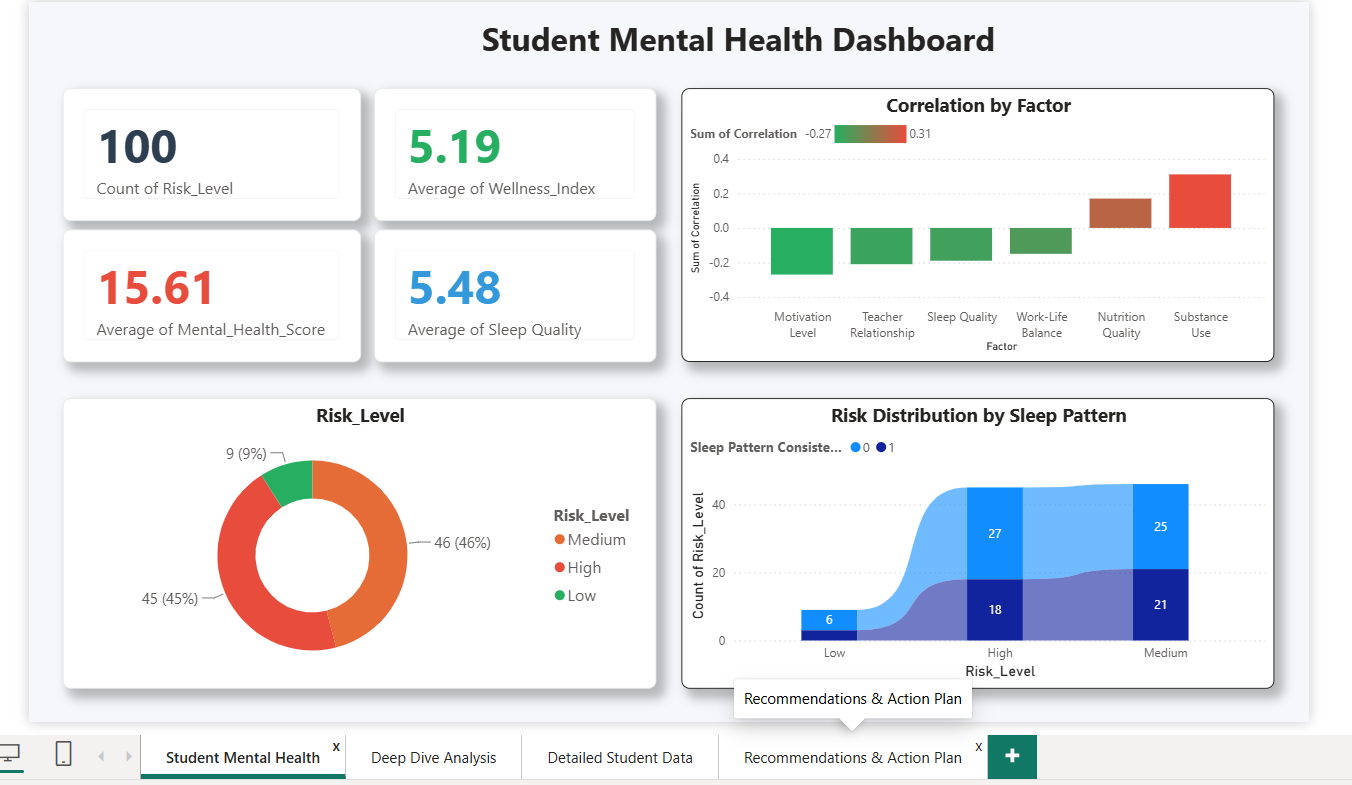

This screenshot's page, from the dashboard's own definition file:
{"tool":"powerbi","page":{"name":"Student Mental Health","canvas":[1280,720],"ordinal":0},"visuals":[{"type":"cardVisual","fields":{"Data":["CountNonNull(clean_data.Risk_Level)"]},"box":[33.8,86.2,298.8,132.5],"z":0},{"type":"donutChart","title":"Risk_Level","fields":{"Category":["clean_data.Risk_Level"],"Y":["CountNonNull(clean_data.Risk_Level)"]},"box":[33.8,396.2,593.8,290],"z":1000},{"type":"cardVisual","fields":{"Data":["Avg(clean_data.Mental_Health_Score)"]},"box":[33.8,227.5,298.8,132.5],"z":2000},{"type":"cardVisual","fields":{"Data":["Avg(clean_data.Wellness_Index)"]},"box":[345,86.2,282.5,132.5],"z":3000},{"type":"cardVisual","fields":{"Data":["Avg(clean_data.Sleep Quality)"]},"box":[345,227.5,282.5,132.5],"z":4000},{"type":"textbox","box":[421.3,9.6,576.3,63.1],"z":5000},{"type":"columnChart","title":"Correlation by Factor","fields":{"Category":["Correlations.Factor"],"Y":["Sum(Correlations.Correlation)"]},"box":[652.5,86.2,592.5,273.8],"z":6000},{"type":"ribbonChart","title":"Risk Distribution by Sleep Pattern","fields":{"Category":["clean_data.Risk_Level"],"Series":["clean_data.Sleep Pattern Consistency"],"Y":["CountNonNull(clean_data.Risk_Level)"]},"box":[653,396,593,290],"z":7000}]}

Visuals, with their boxes on the page's 1280x720 design canvas (x1, y1, x2, y2). These are canvas units, not pixel positions in the 1352x785 screenshot, which may show the page scaled, cropped or inside an application window:
cardVisual - CountNonNull(clean_data.Risk_Level): crop(34, 86, 333, 219)
"Risk_Level" donutChart: crop(34, 396, 628, 686)
cardVisual - Avg(clean_data.Mental_Health_Score): crop(34, 228, 333, 360)
cardVisual - Avg(clean_data.Wellness_Index): crop(345, 86, 628, 219)
cardVisual - Avg(clean_data.Sleep Quality): crop(345, 228, 628, 360)
textbox: crop(421, 10, 998, 73)
"Correlation by Factor" columnChart: crop(652, 86, 1245, 360)
"Risk Distribution by Sleep Pattern" ribbonChart: crop(653, 396, 1246, 686)
